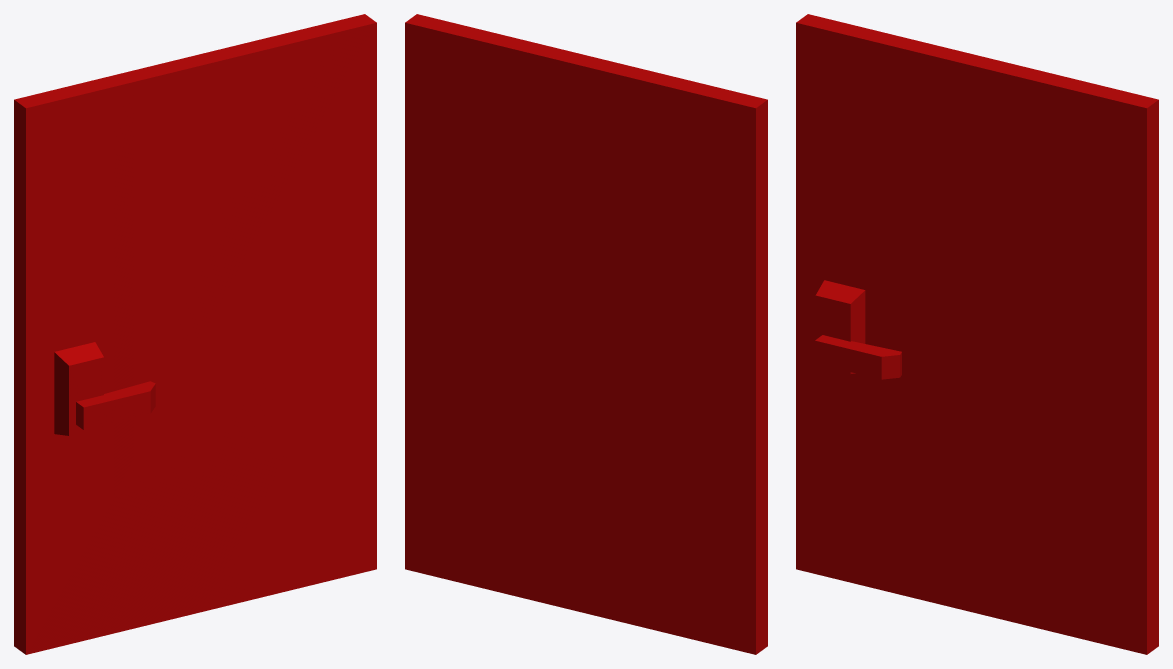
The picture shows the model from 3 angles, left to right: view 1: azimuth 30°, elevation 25°; view 2: azimuth 150°, elevation 25°; view 3: azimuth 330°, elevation 25°; orthographic projection.
Parts seen in each view (by area): view 1: coll_hallway_door; view 2: coll_hallway_door; view 3: coll_hallway_door.
Part boxes in pixels (left/top/right/bottom): coll_hallway_door: left=14, top=14, right=376, bottom=654; coll_hallway_door: left=405, top=14, right=767, bottom=654; coll_hallway_door: left=796, top=14, right=1158, bottom=654.
Bounding box in the file's own units: 160 × 238 × 24.8.
